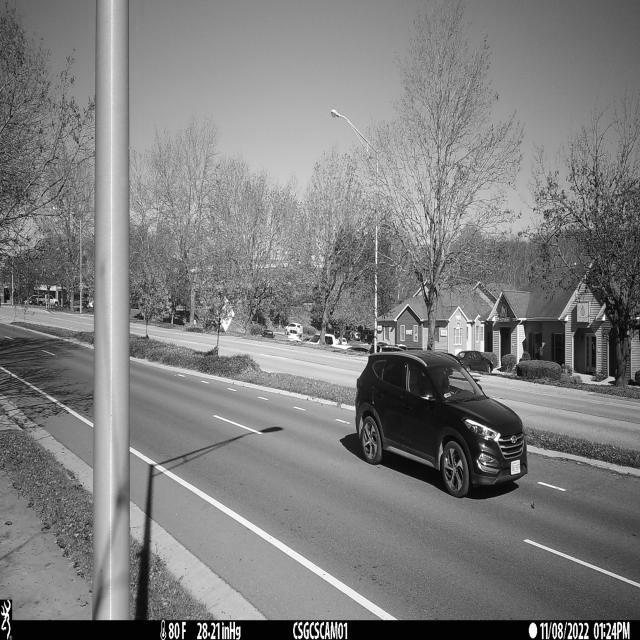SUV: (355, 345, 527, 499)
